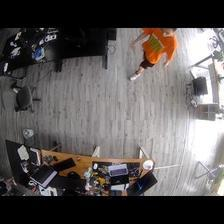normal: (129, 27, 178, 78)
